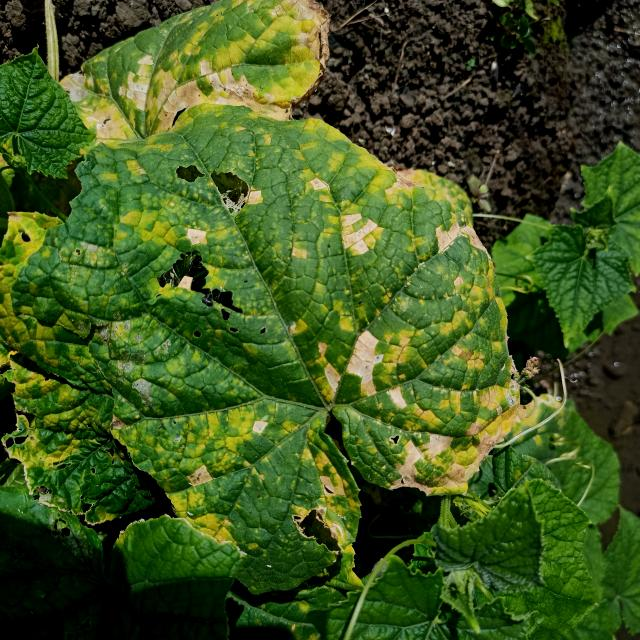disease_cucumber: (0, 128, 519, 551), (62, 6, 325, 151)
